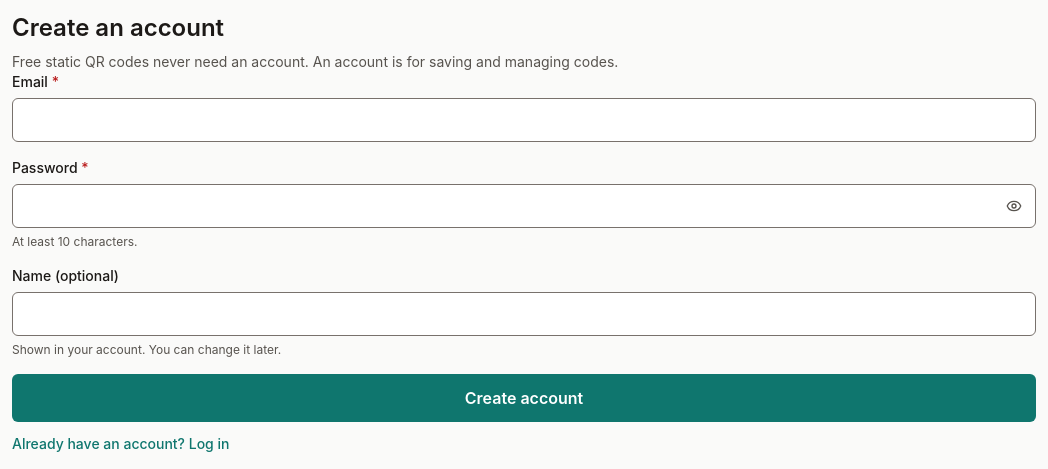
Test: RegisterForm › checks the password length like the API, then shows the check-email screen
The width and height of the screenshot is (1048, 469).
In the field labelled "Email *": (524, 120) [12, 98, 1036, 142], type "new@example.com"
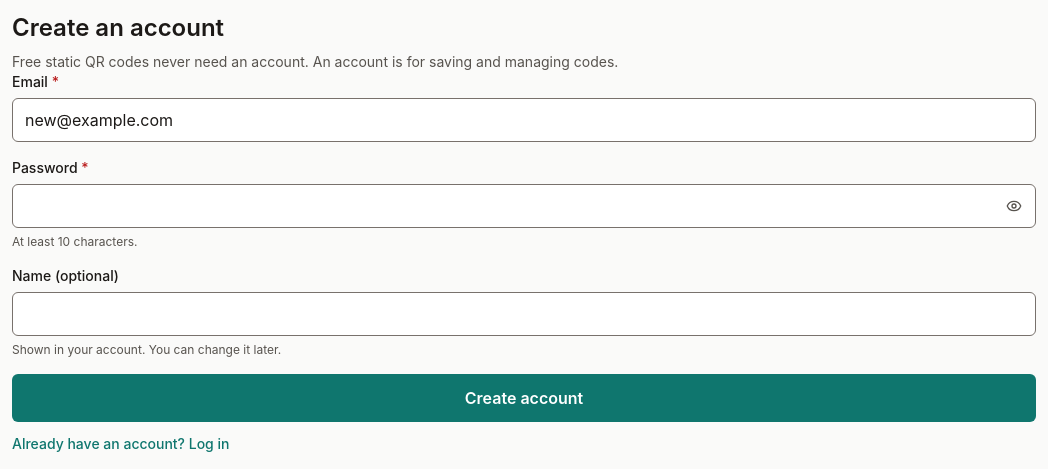
In the password field labelled "Password *": (524, 206) [12, 184, 1036, 228], type "short"
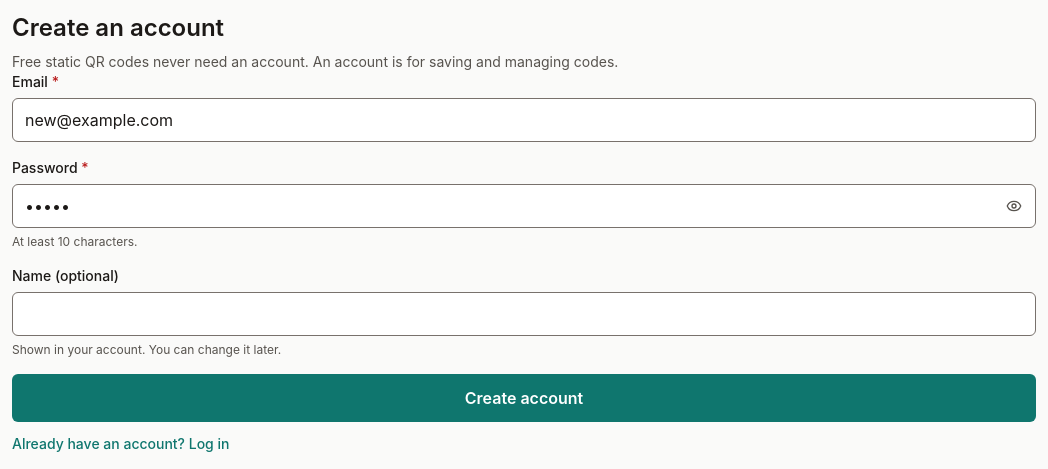
Click the button "Create account": (524, 398) [12, 374, 1036, 422]
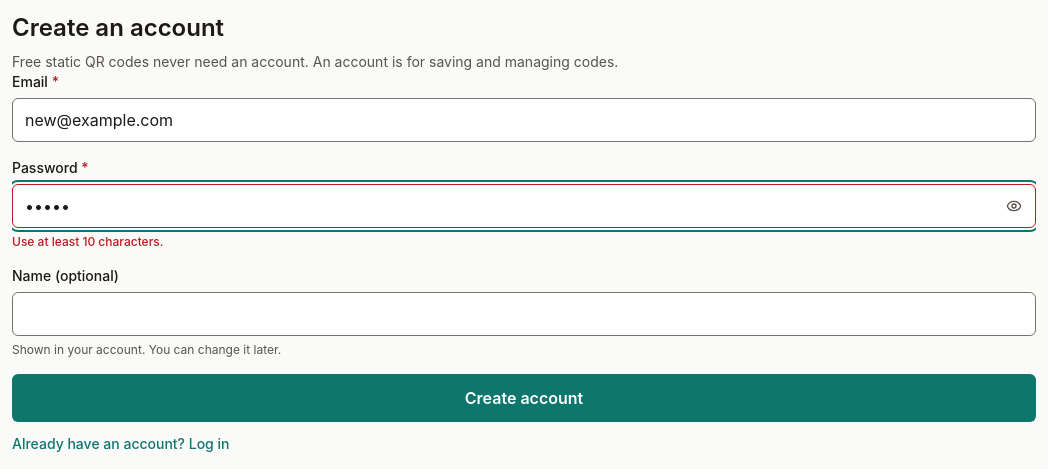
expect the text "Use at least 10 characters." is shown: met, box [12, 234, 163, 249]
In the password field labelled "Password *": (524, 206) [12, 184, 1036, 228], type "long-enough-password"
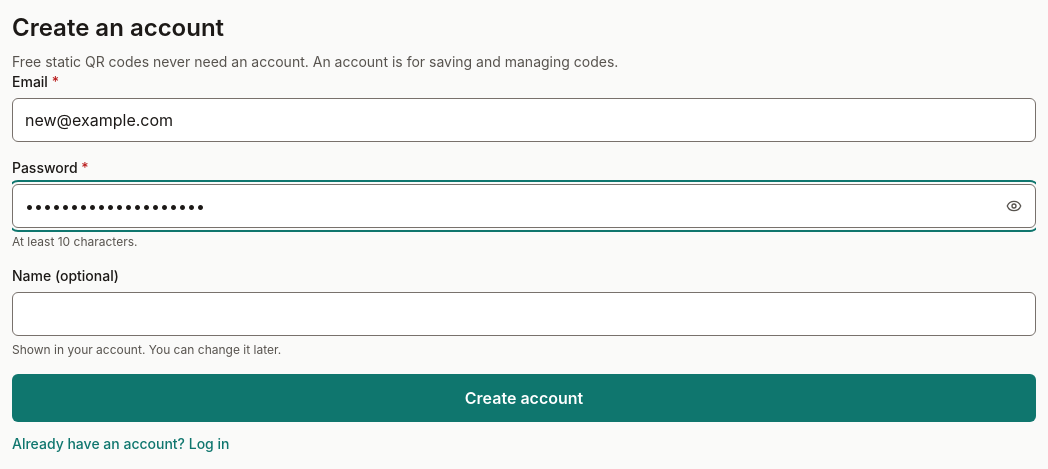
Click the button "Create account": (524, 398) [12, 374, 1036, 422]
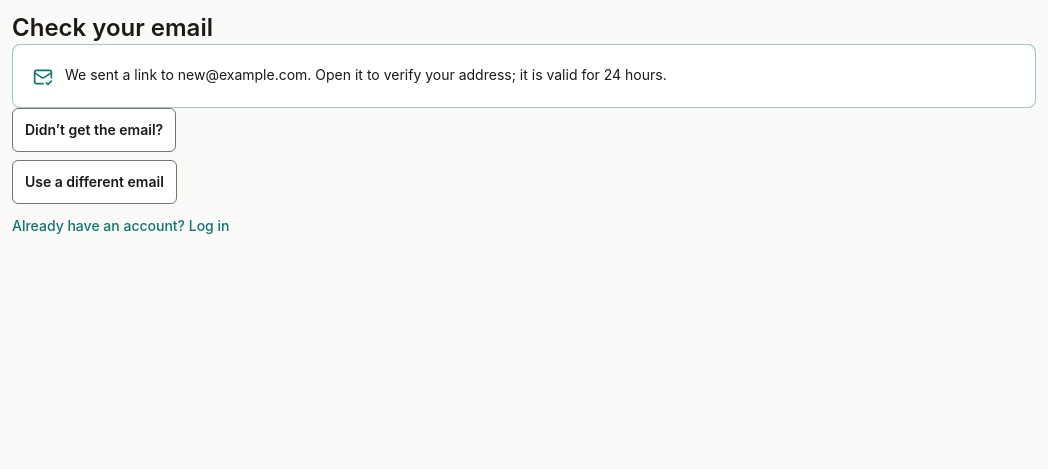
expect the heading "Check your email" is shown: met, box [12, 13, 213, 42]
expect the text "new@example.com" is shown: met, box [65, 66, 667, 83]
